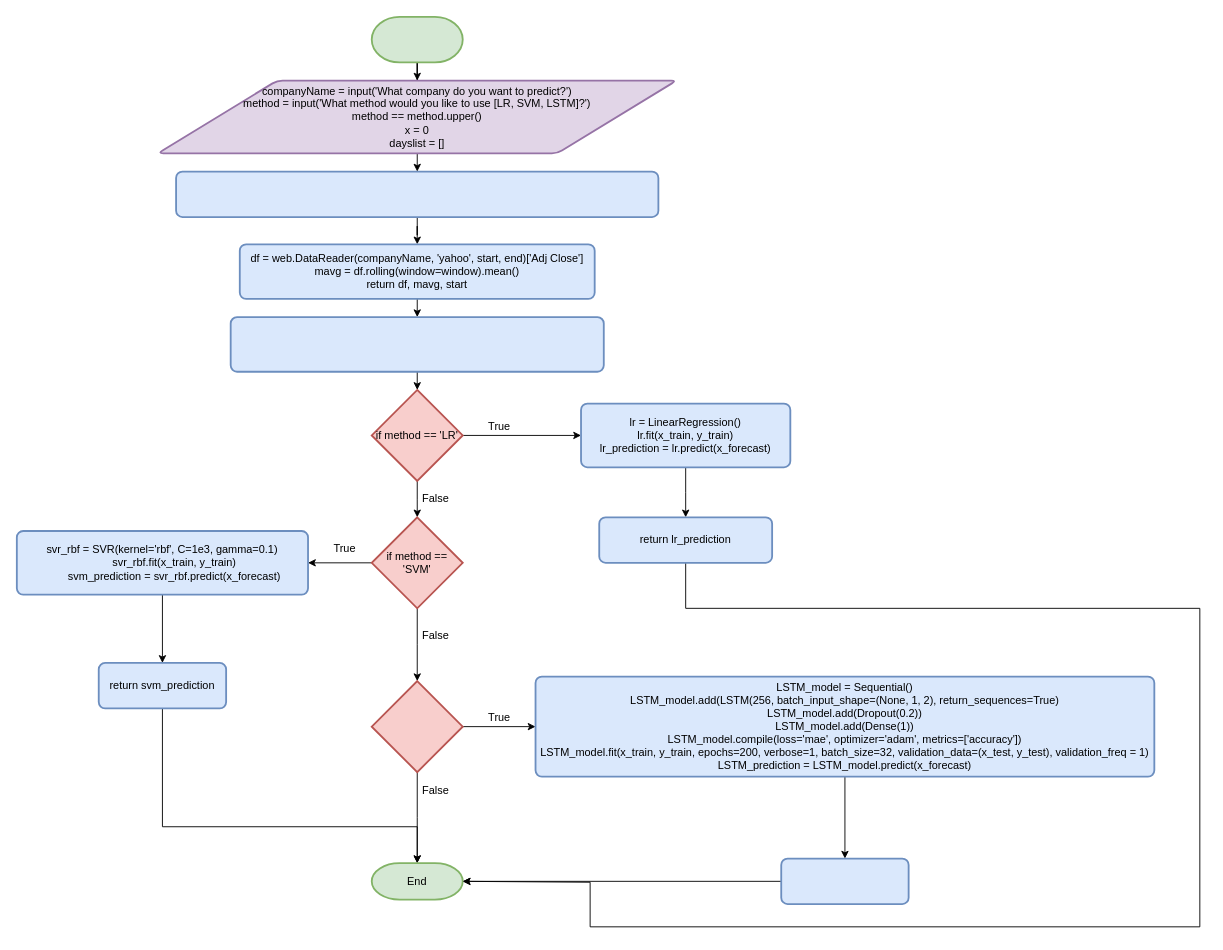
This 1223x950 diagram has some shape labels left out. The shapes that lost their labels are listed below. From the top down, each one's box as (x1, y1, x2, y2) in pixels, then its label:
(370, 15, 463, 63): Start
(175, 170, 659, 217): df, mavg, start = getStock(companyName=companyName, month=24, plot=False)
(229, 316, 604, 372): x_train, x_test, y_train, y_test = train_test_split(df, test_size=0.2)
(370, 680, 463, 773): if method == 'LSTM'
(780, 857, 909, 905): return LSTM_prediction
